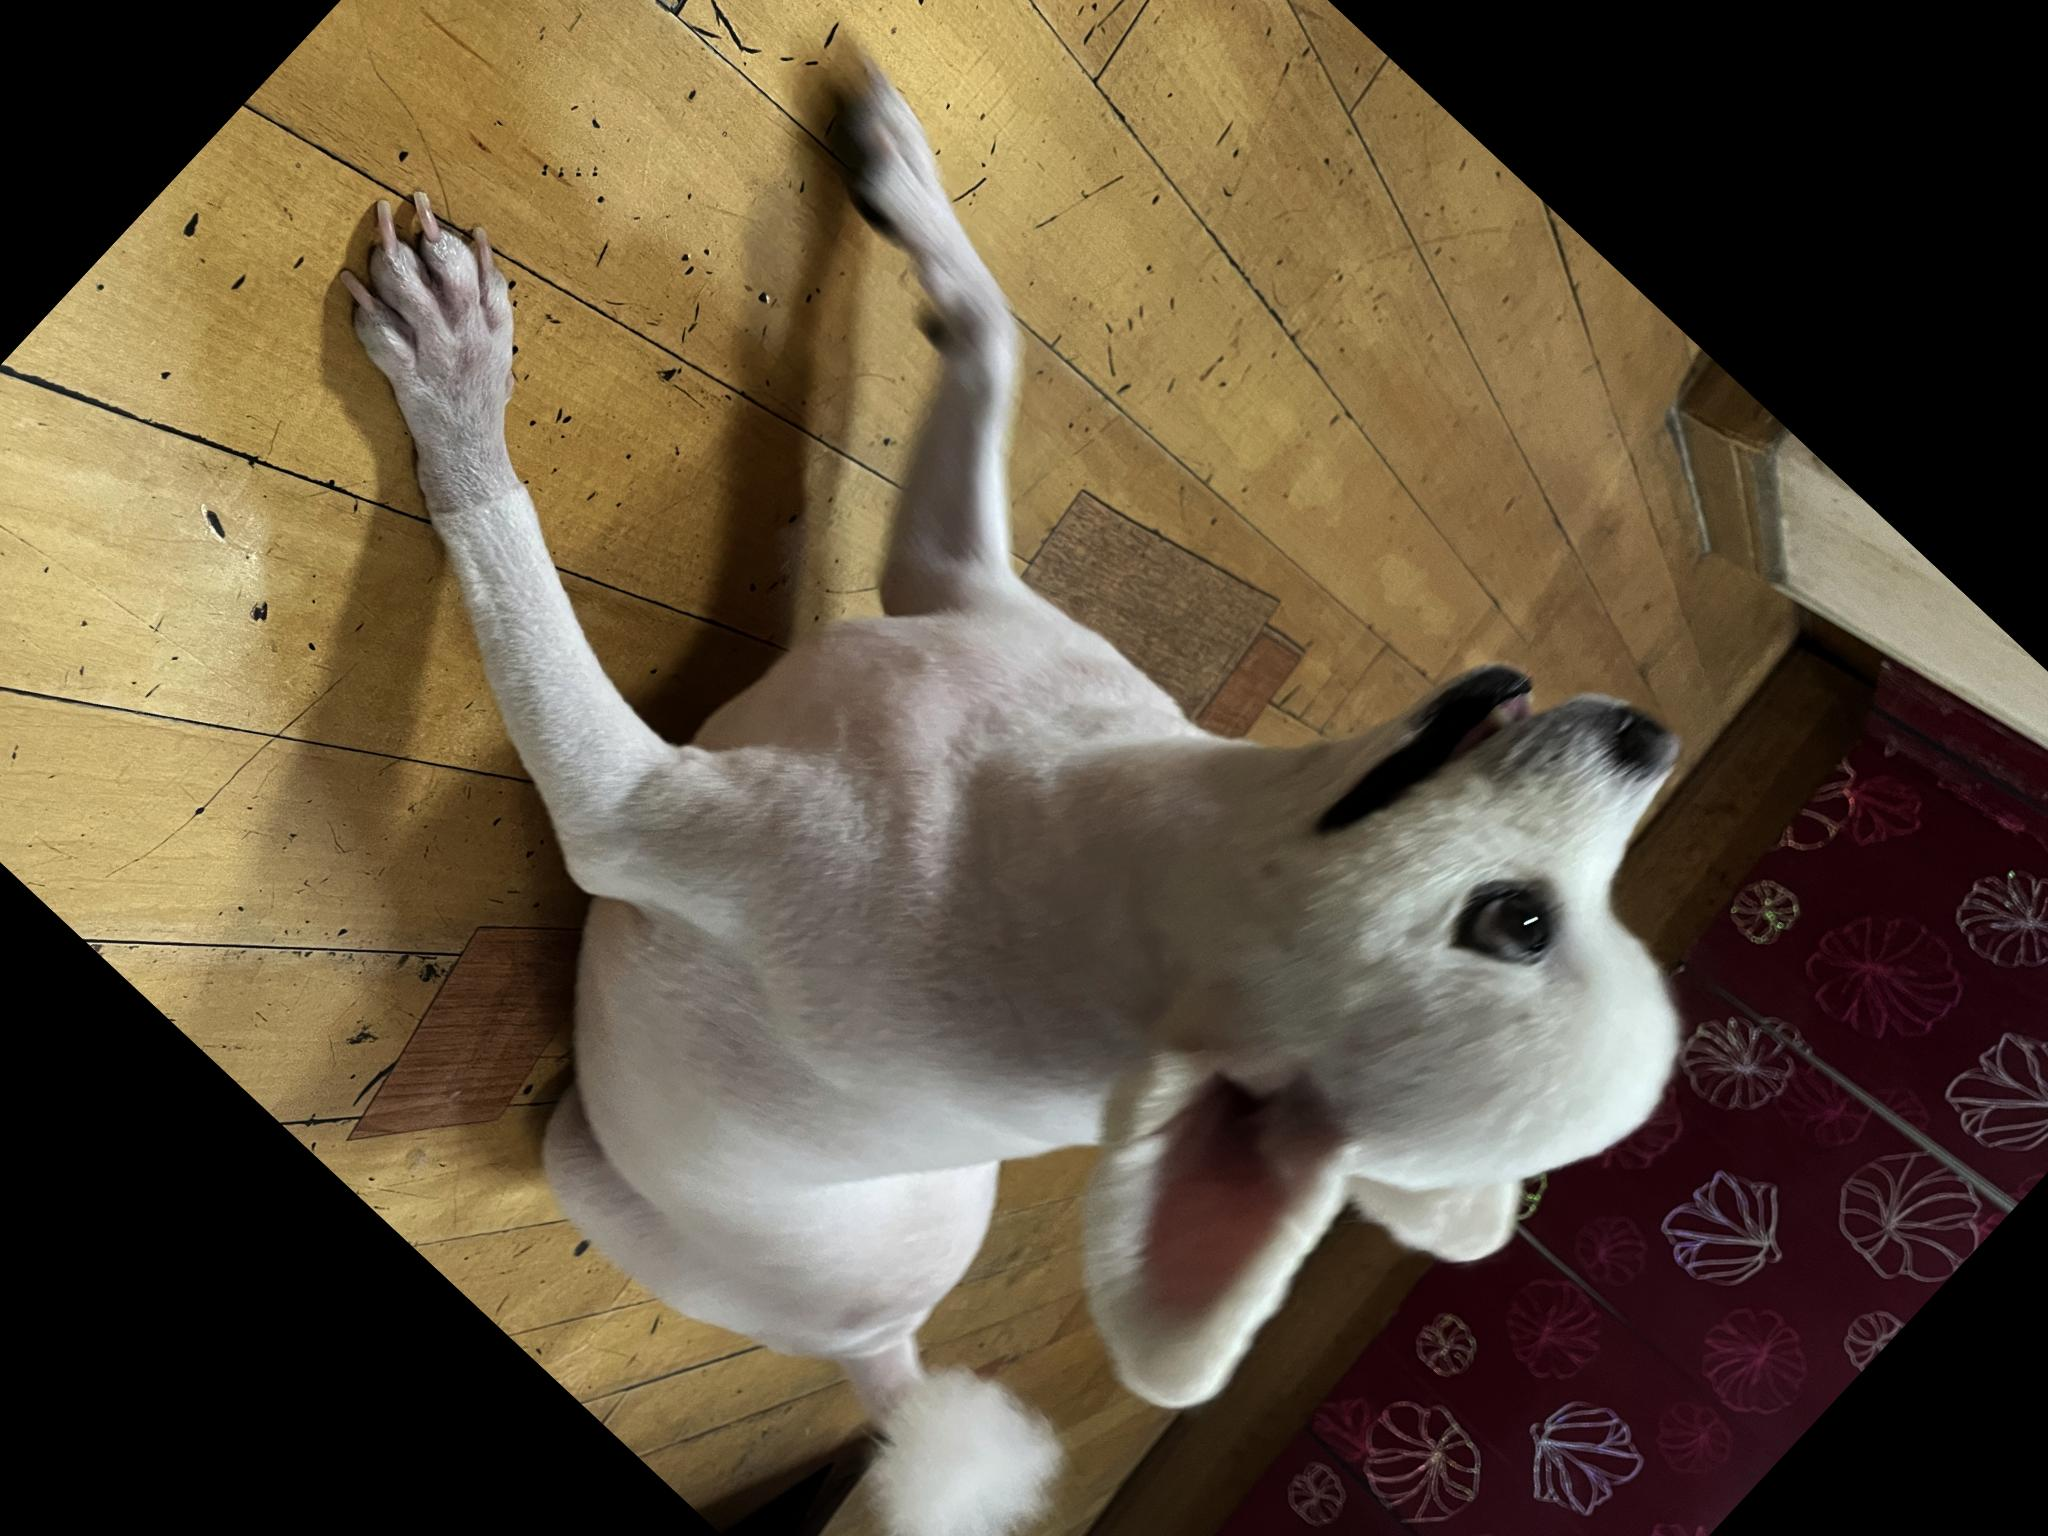dog: (343, 297, 2001, 1536)
